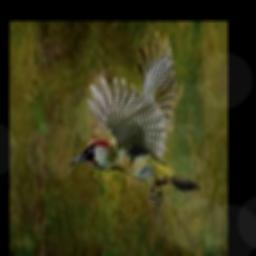Woodpecker: (69, 30, 203, 205)
